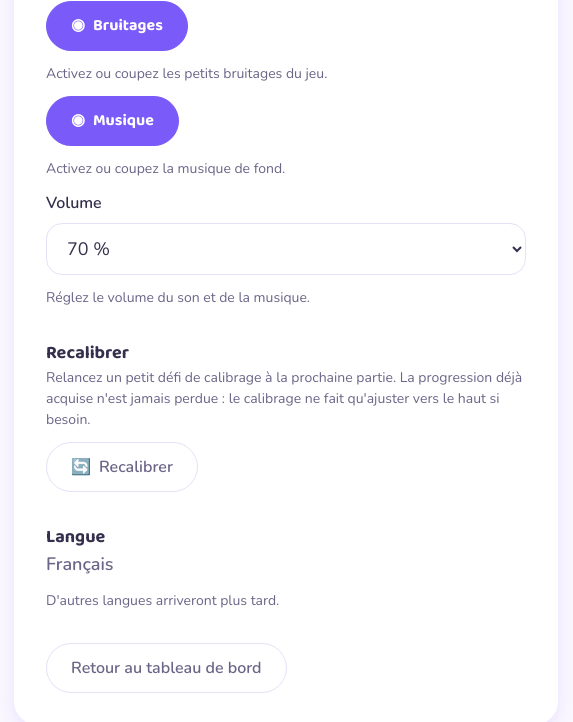
Test: SettingsForm — recalibrer (story 7.6, ADR 0016) › exception réseau (action throw) ⇒ role=alert message GENERIC
(page scrolled)
Click the button "🔄 Recalibrer" at (122, 467), box [46,442,198,492]
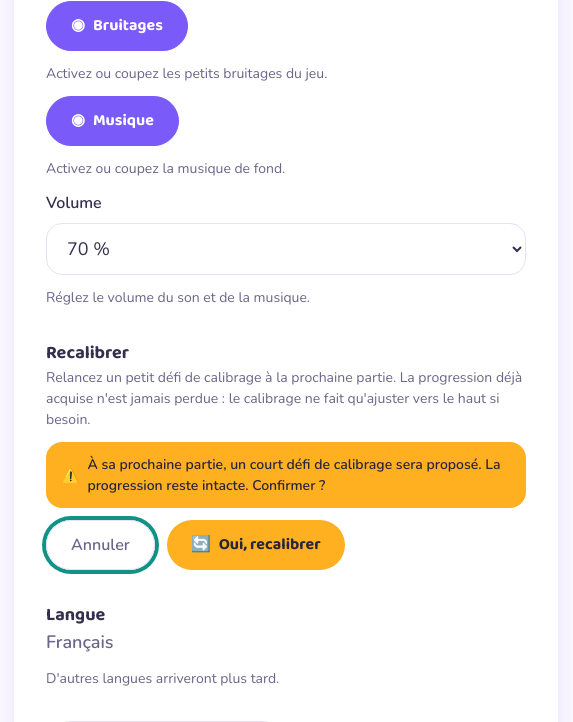
Click the button "🔄 Oui, recalibrer" at (256, 545), box [167,520,345,570]
(page scrolled)
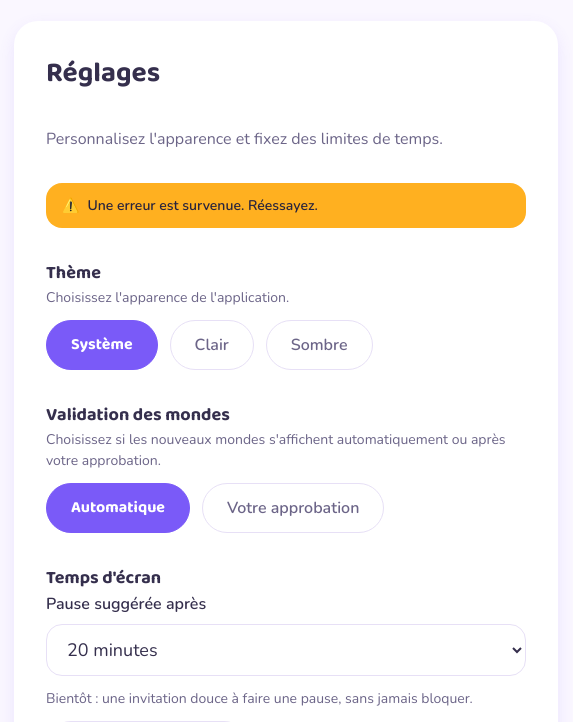
expect the message shows "Une erreur est survenue. Réessayez.": met, box [88,196,318,215]
